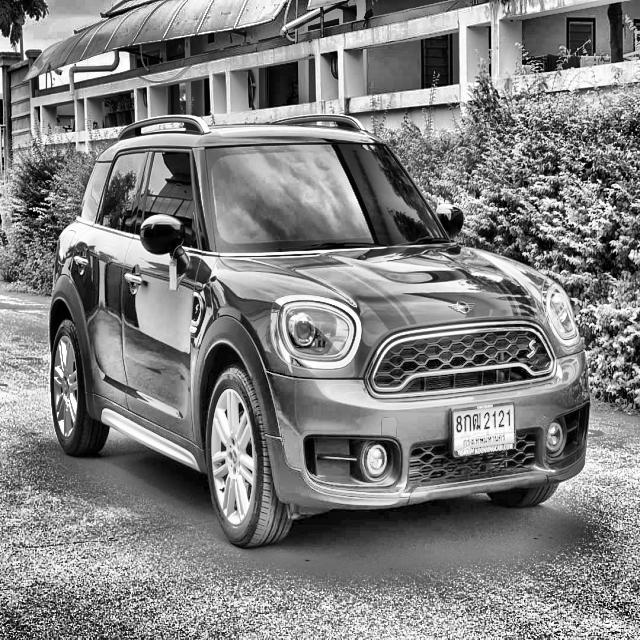license-plate: (449, 398, 521, 464)
